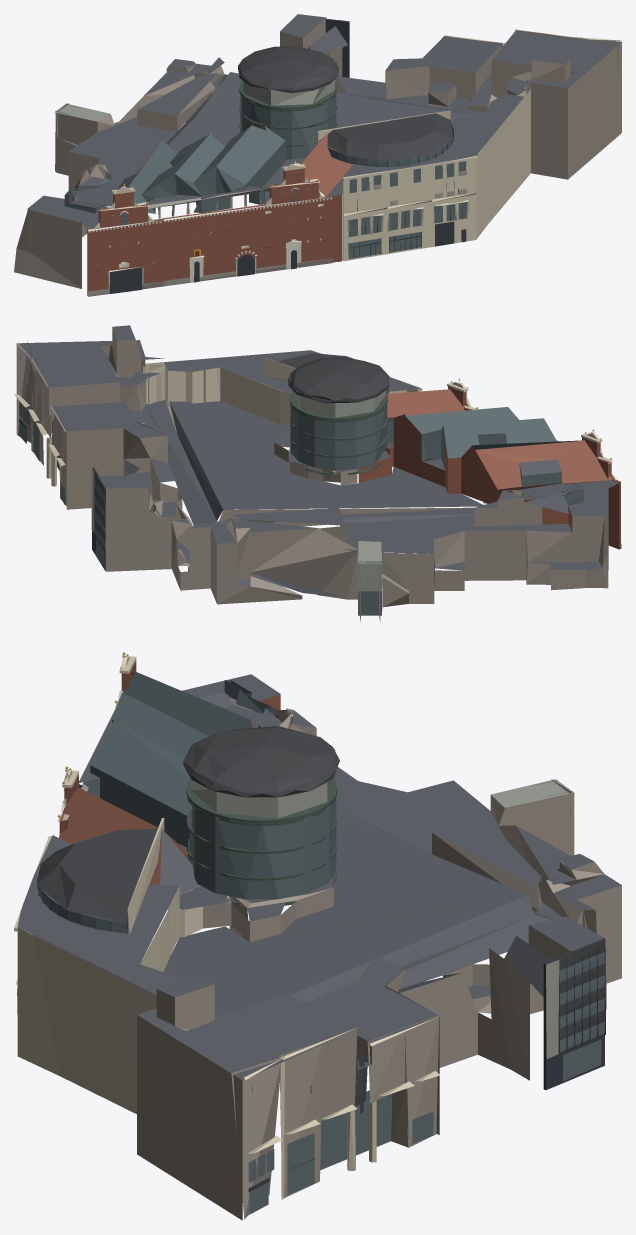
The model's file is kalvertoren.lod1.glb.
3 renders of one model, top to bottom at view 1: azimuth 30°, elevation 25°; view 2: azimuth 150°, elevation 25°; view 3: azimuth 270°, elevation 25°, orthographic. The views are drawn at different scales.
Parts seen in each view (by area): view 1: kalvertoren; view 2: kalvertoren; view 3: kalvertoren.
Boxes of the visible parts, left/top/right/bottom form: kalvertoren: left=14, top=14, right=621, bottom=296; kalvertoren: left=14, top=325, right=621, bottom=621; kalvertoren: left=14, top=652, right=621, bottom=1220.
Bounding box in the file's own units: 130 × 30.87 × 74.55.
